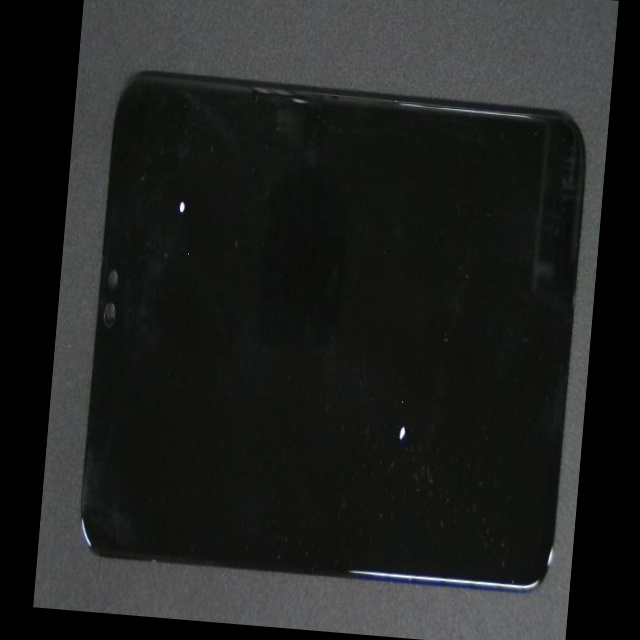stain: (219, 168, 598, 628), (105, 82, 223, 336)
